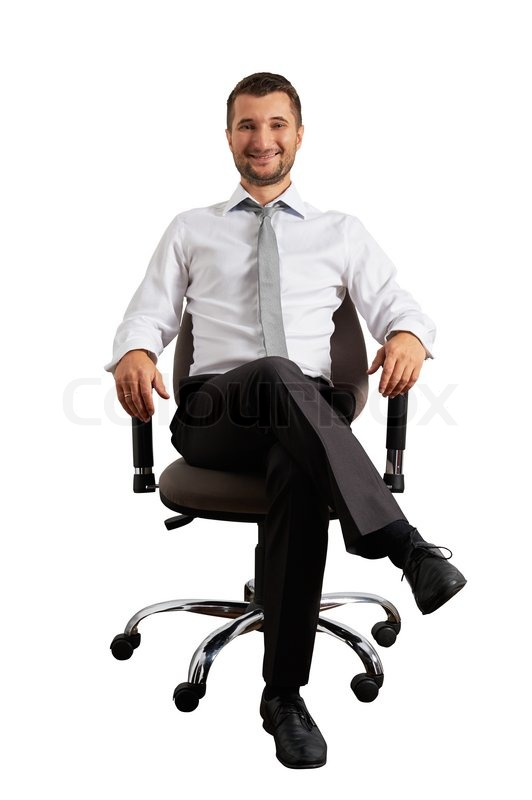chairs: (114, 264, 411, 708)
